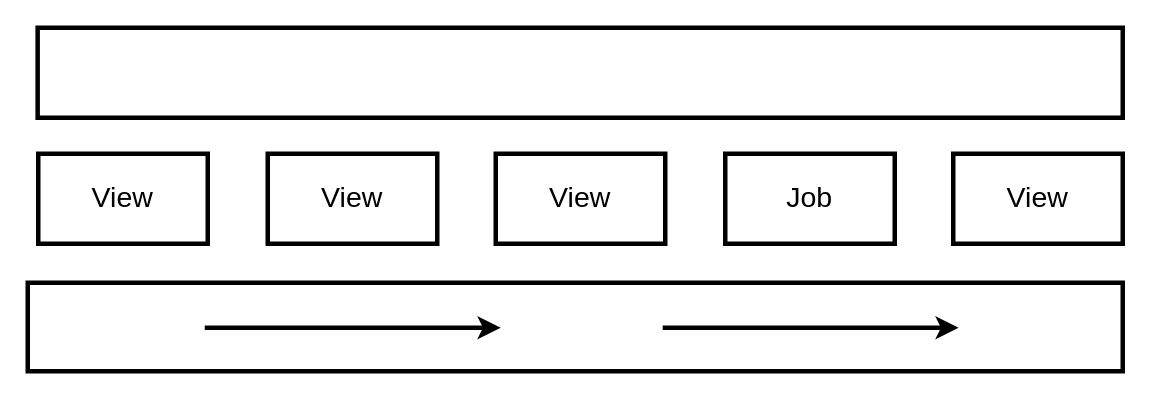
The diagram is 1151 pixels wide and 399 high, and some of its shapes have lost their labels. The box of each missing label's shape, as (x1, y1, x2, y2) in pixels:
Flow: (25, 280, 1124, 373)
Model: (35, 25, 1124, 119)
